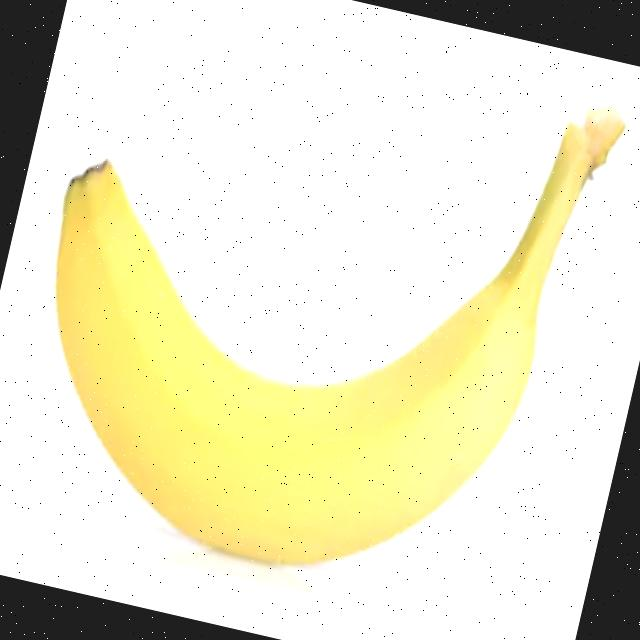banana: (0, 0, 628, 620)
